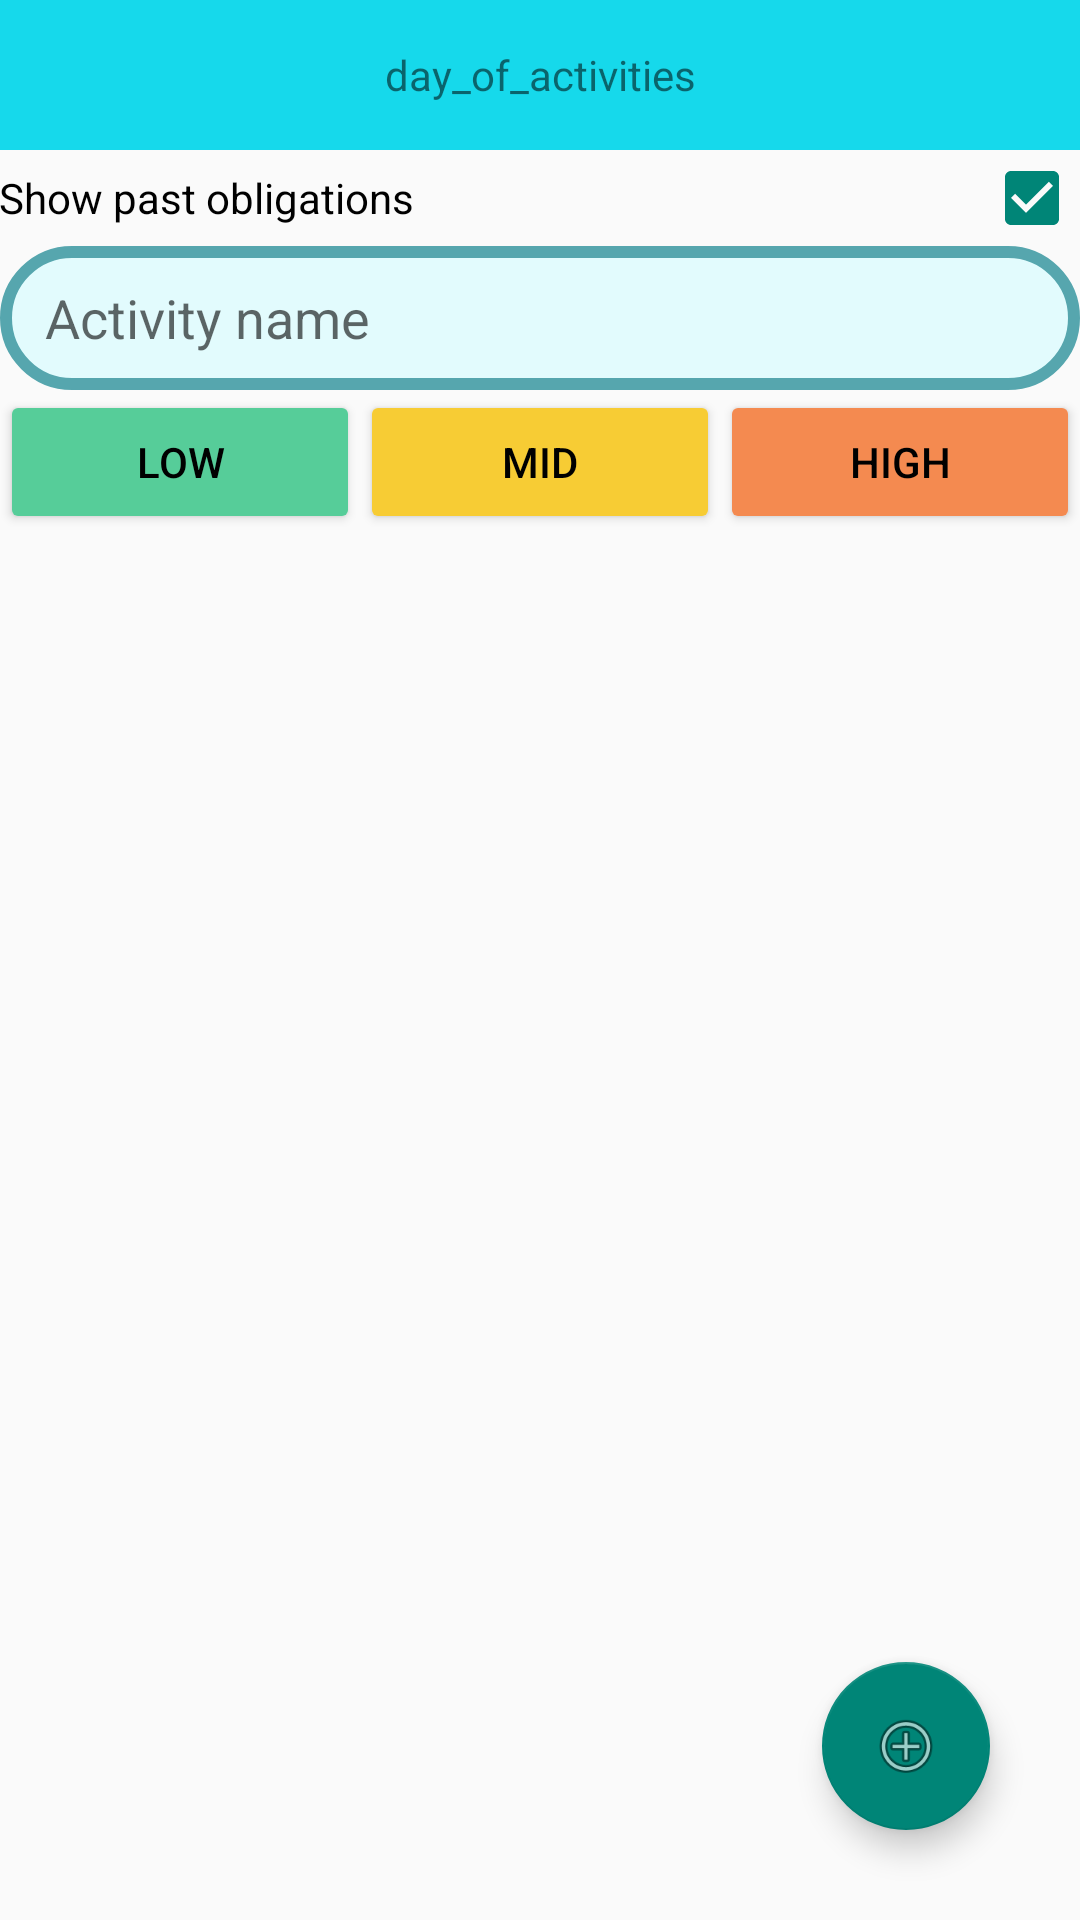

Icon bounding boxes for this 1080 × 1920 phone screenshot, format (x1, y1, x2, y2):
Add new activity: (822, 1662, 990, 1830)
